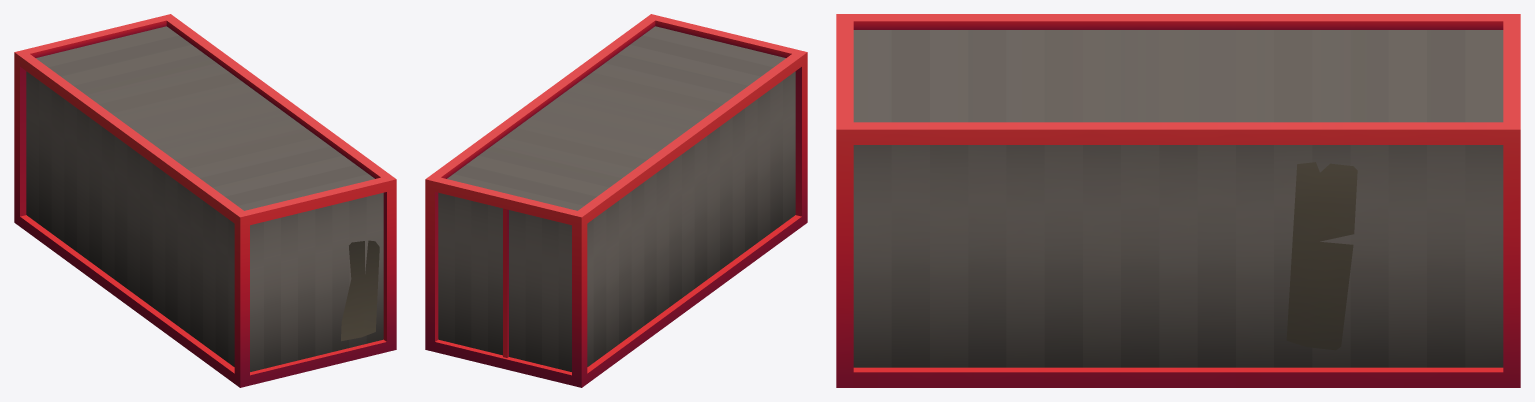
Rendered from Container_1L.fbx.
3 views of the same model, side by side, from view 1: azimuth 30°, elevation 25°; view 2: azimuth 150°, elevation 25°; view 3: azimuth 270°, elevation 25° (orthographic). The views are drawn at different scales.
Visible parts, largest first — view 1: Container_1L; view 2: Container_1L; view 3: Container_1L.
Boxes of the visible parts, x1,y1,x2,y2 form: Container_1L: (14,14,396,387); Container_1L: (425,14,807,387); Container_1L: (836,14,1520,387).
Bounding box in the file's own units: 2.4 × 2.5 × 6.
